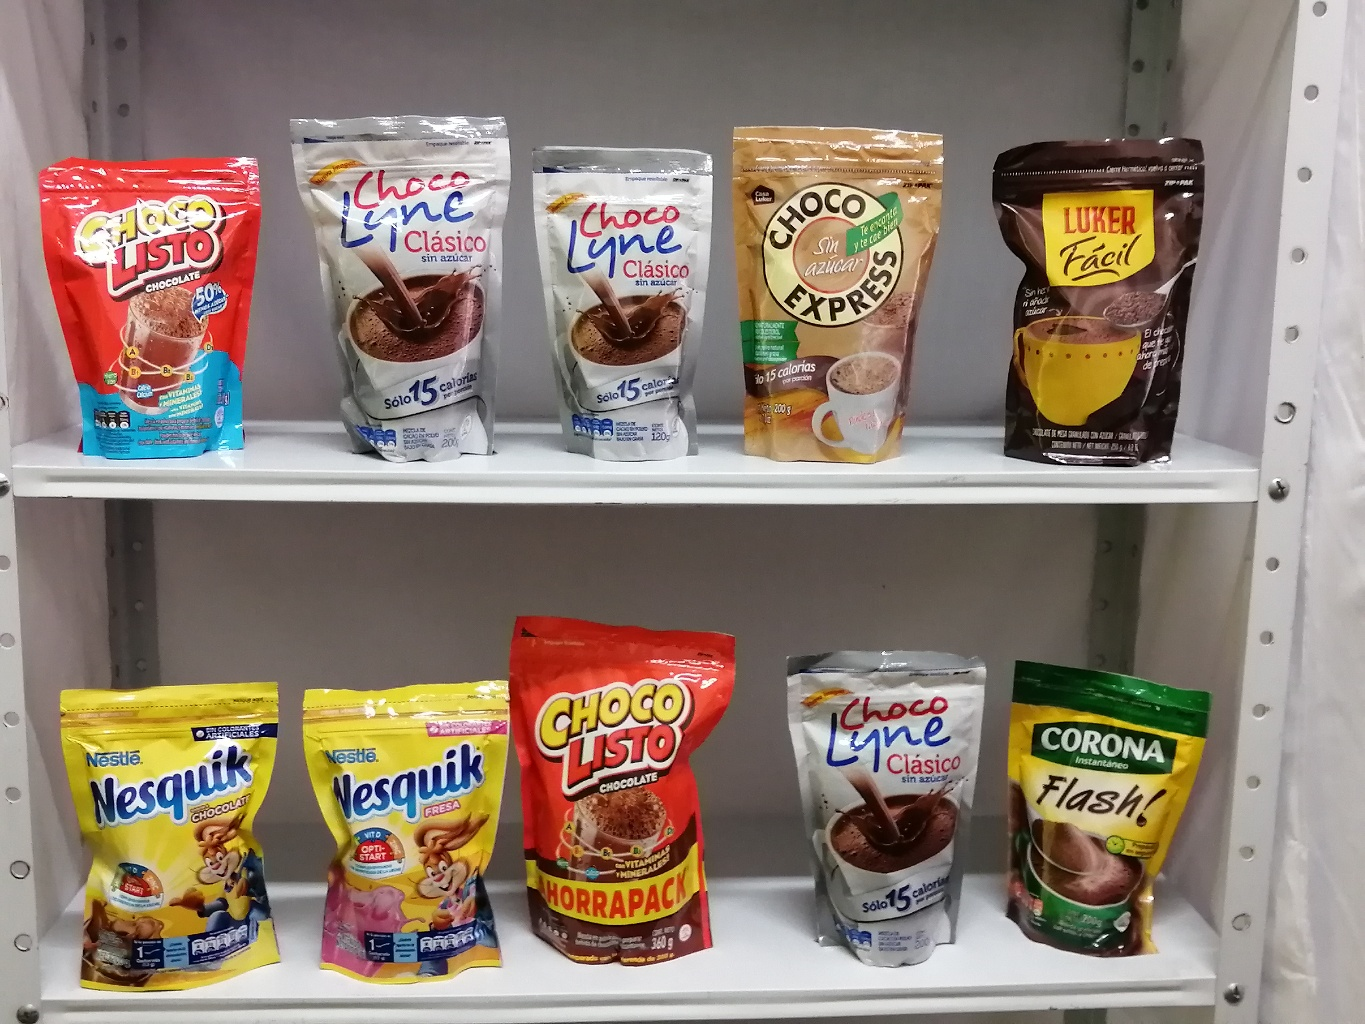COL0170103DYP36000: (482, 607, 753, 970)
COL0170104DYP20000: (28, 131, 280, 471)
COL0170303DYP20000: (43, 678, 297, 995)
COL0170305DYP20000: (270, 667, 524, 984)
